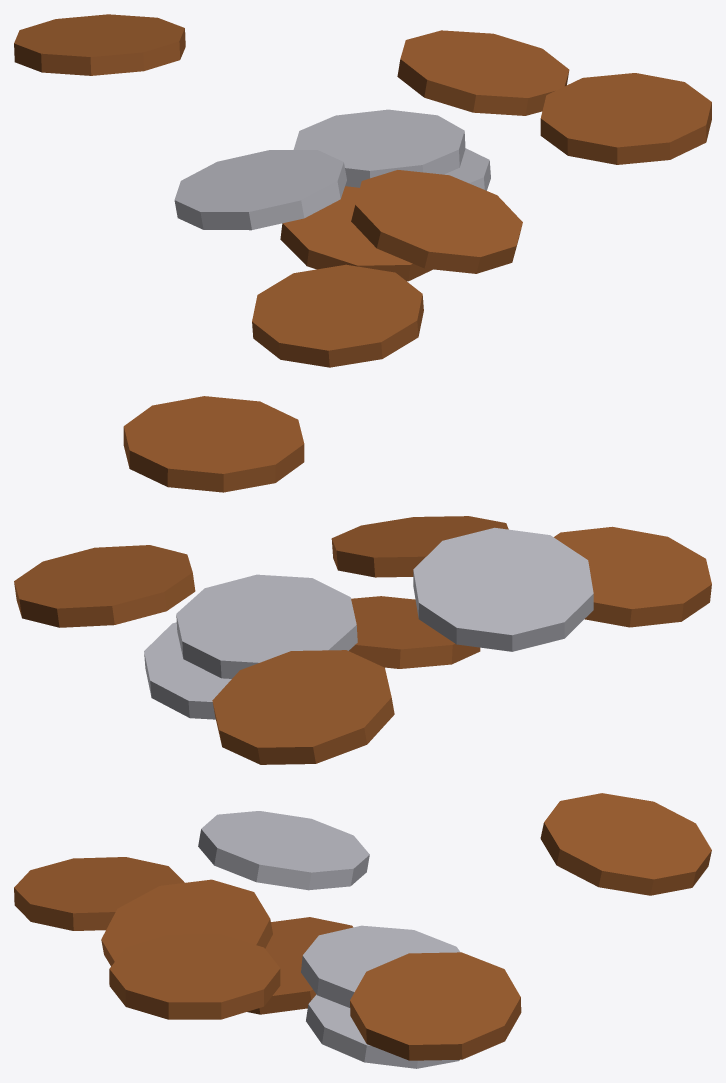
The model's file is TownFind_well.glb.
3 renders of one model, top to bottom at view 1: azimuth 30°, elevation 25°; view 2: azimuth 150°, elevation 25°; view 3: azimuth 270°, elevation 25°, orthographic. The views are drawn at different scales.
Visible parts, largest first — view 1: TownFind_well.001; view 2: TownFind_well.001; view 3: TownFind_well.001.
Part boxes in pixels (x1,y1,x2,y2): TownFind_well.001: (14,14,711,367); TownFind_well.001: (14,396,711,764); TownFind_well.001: (14,793,711,1068).
Size of the model in its own units: 0.1144 by 0.0307 by 0.147.
